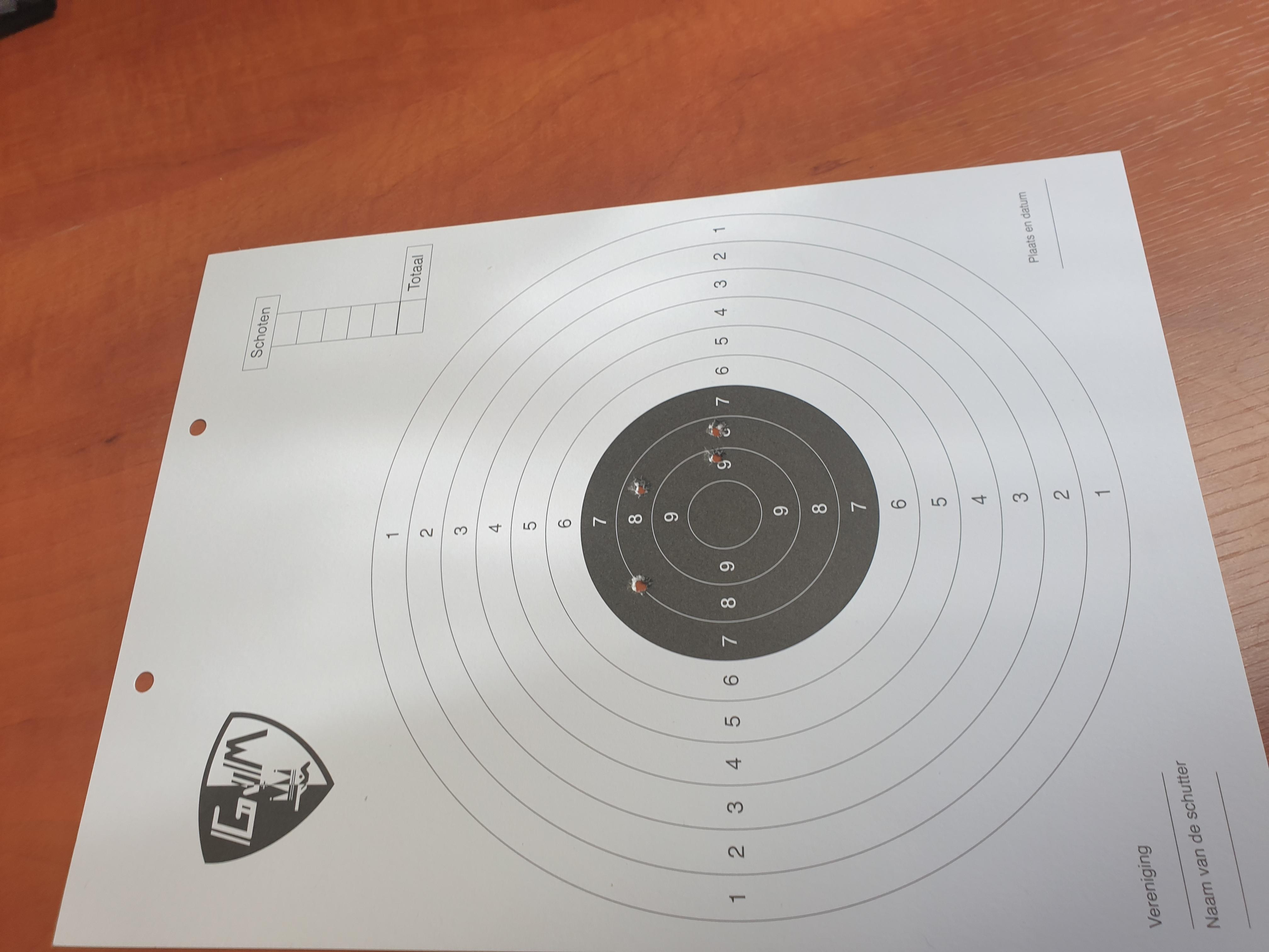hole: (473, 470, 506, 489), (605, 471, 636, 489), (683, 529, 711, 547), (648, 528, 671, 545)
